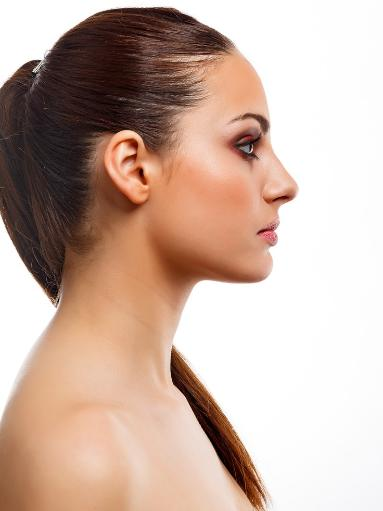right_eye: (231, 140, 261, 164)
right_lip_corner: (255, 227, 265, 242)
